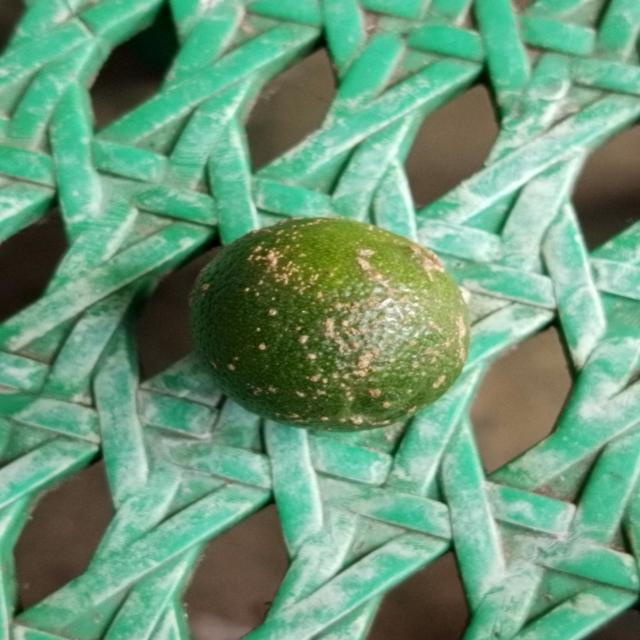scab: (179, 210, 476, 432)
